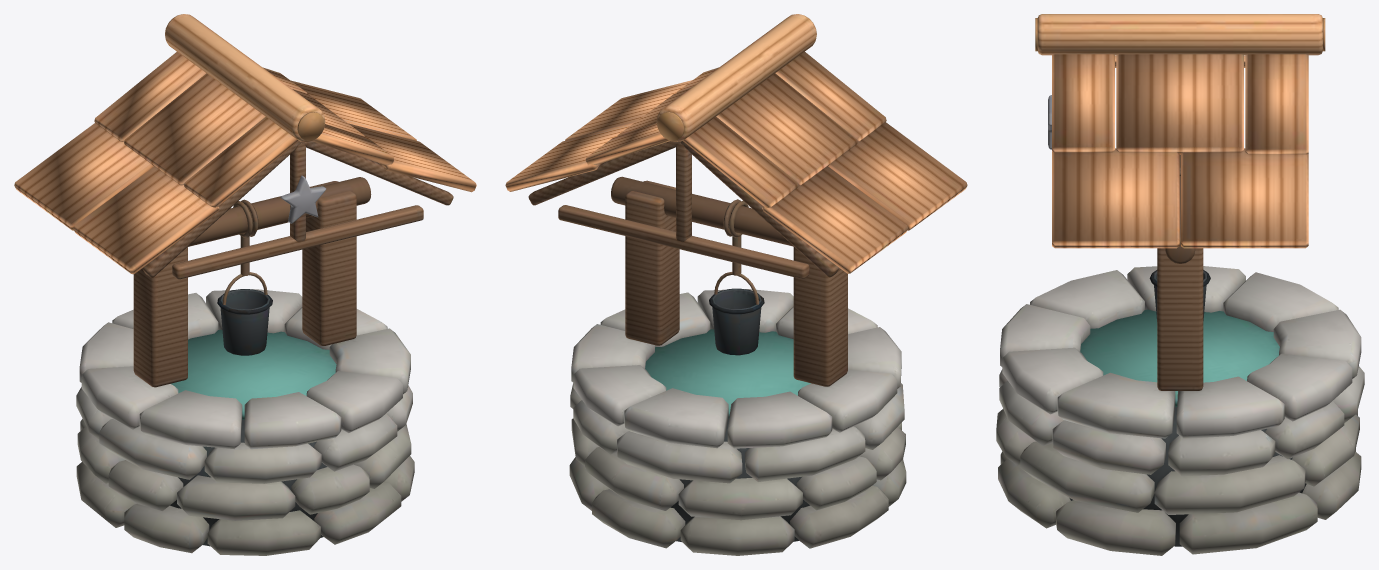
Rendered from well_1_high.glb.
The picture shows the model from 3 angles, left to right: view 1: azimuth 30°, elevation 25°; view 2: azimuth 150°, elevation 25°; view 3: azimuth 270°, elevation 25°; orthographic projection. The views are drawn at different scales.
Visible parts, largest first — view 1: well_1; view 2: well_1; view 3: well_1.
Part boxes in pixels (bbox=[...]): well_1: bbox=[14, 14, 476, 555]; well_1: bbox=[505, 14, 967, 555]; well_1: bbox=[996, 14, 1364, 555].
Size of the model in its own units: 1.9 by 2.24 by 1.6.
Materials: 1 (1 with a texture image).
